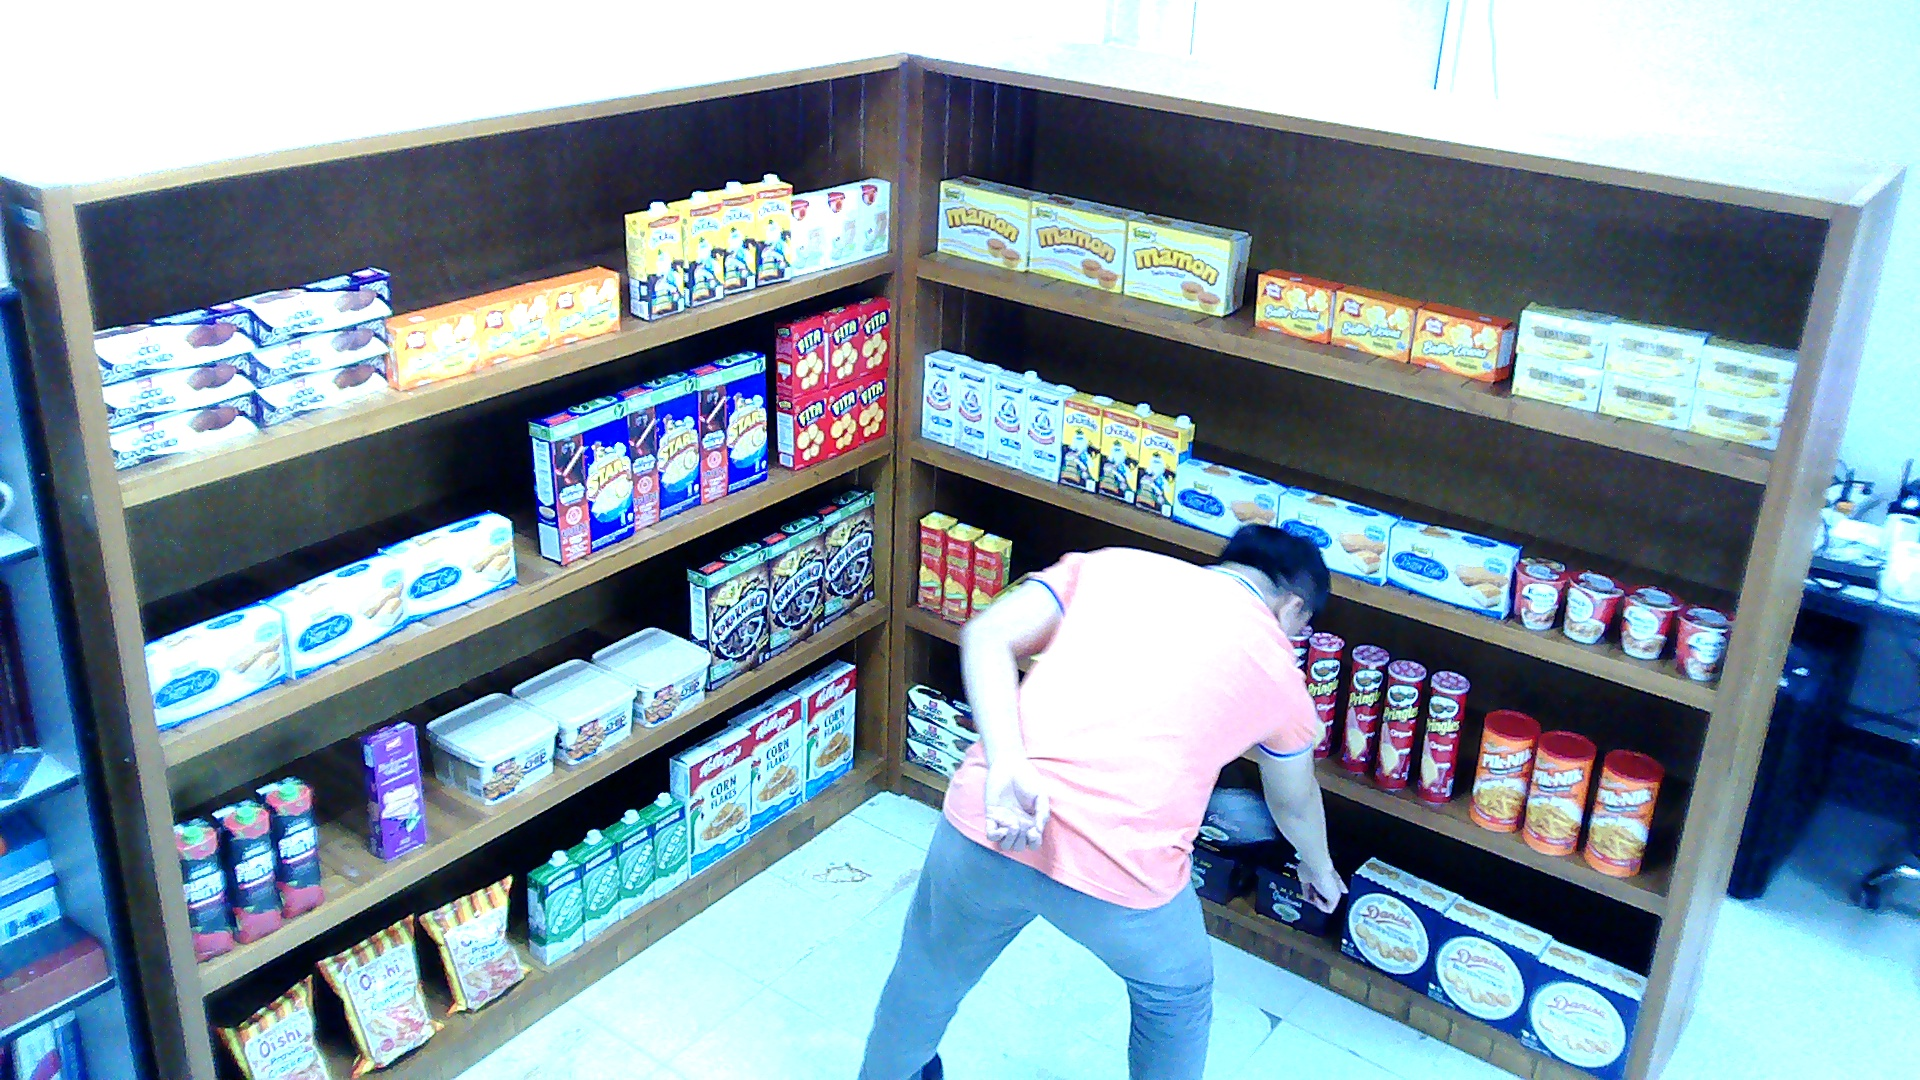Bear brand: (987, 368, 1041, 467), (1023, 380, 1077, 479), (921, 348, 972, 445), (954, 359, 1002, 456)
Buttercake: (257, 551, 404, 677), (144, 601, 285, 729), (378, 508, 516, 623), (1386, 517, 1524, 618), (1275, 485, 1401, 584), (1172, 456, 1289, 537)
Butterlicious: (384, 301, 480, 389), (1410, 301, 1515, 380), (456, 283, 549, 369), (525, 265, 621, 346), (1329, 284, 1425, 360), (1254, 268, 1347, 342)
Camomille: (1695, 335, 1797, 407), (1605, 315, 1707, 387), (1515, 299, 1617, 369), (1689, 389, 1785, 450), (1599, 368, 1695, 429), (1512, 350, 1602, 409)
Choco Crunchies: (231, 265, 393, 348), (93, 301, 252, 384), (102, 351, 255, 427), (108, 391, 258, 470), (251, 317, 386, 387), (258, 356, 387, 428), (906, 681, 978, 740), (906, 713, 972, 758), (906, 738, 963, 778)
Chocolate Chips: (423, 693, 558, 803), (510, 657, 636, 765), (590, 627, 707, 726)
Chuckie: (624, 200, 684, 319), (666, 189, 723, 306), (1134, 412, 1194, 518), (1098, 400, 1155, 503), (705, 182, 756, 292), (1059, 391, 1113, 492), (741, 173, 789, 286)
Danisa: (1521, 938, 1647, 1078), (1425, 895, 1551, 1035), (1340, 855, 1457, 992)
Fita: (773, 310, 824, 396), (777, 387, 825, 470), (816, 301, 861, 387), (849, 294, 888, 373), (828, 377, 858, 458), (857, 367, 884, 443)
Fresh Milk: (528, 848, 582, 963), (564, 827, 618, 940), (603, 810, 654, 918), (639, 792, 687, 898)
Grahams: (1188, 799, 1269, 905), (1251, 830, 1329, 936)
Head: (1214, 522, 1331, 641)
Honey Stars: (528, 393, 633, 564), (611, 369, 698, 531), (681, 348, 768, 503)
Kellogg Corn Flakes: (666, 722, 750, 877), (725, 689, 800, 837), (786, 659, 855, 801)
Kimchi Noodles: (1619, 583, 1682, 657), (1563, 567, 1623, 643), (1674, 603, 1734, 679), (1512, 556, 1569, 630)
Koko Krunch: (687, 537, 771, 688), (750, 511, 822, 657), (804, 484, 873, 626)
Locally Mango: (915, 510, 957, 611), (941, 522, 980, 625), (969, 531, 1011, 619)
Mamon: (1122, 213, 1251, 314), (1029, 193, 1143, 292), (936, 173, 1050, 270)
Oishi Prawn: (314, 910, 443, 1077), (417, 873, 531, 1017), (216, 974, 330, 1080)
Pik-nik: (1584, 747, 1665, 875), (1521, 729, 1596, 855), (1470, 709, 1539, 831)
Pringles: (1416, 671, 1470, 801), (1371, 659, 1425, 787), (1337, 644, 1388, 770), (1305, 630, 1344, 758)
Super Fruits: (210, 797, 282, 943), (254, 774, 323, 918), (174, 815, 234, 963)
Wafer: (356, 720, 425, 862)
iHop: (810, 184, 858, 267), (842, 177, 887, 258), (791, 191, 818, 274)
